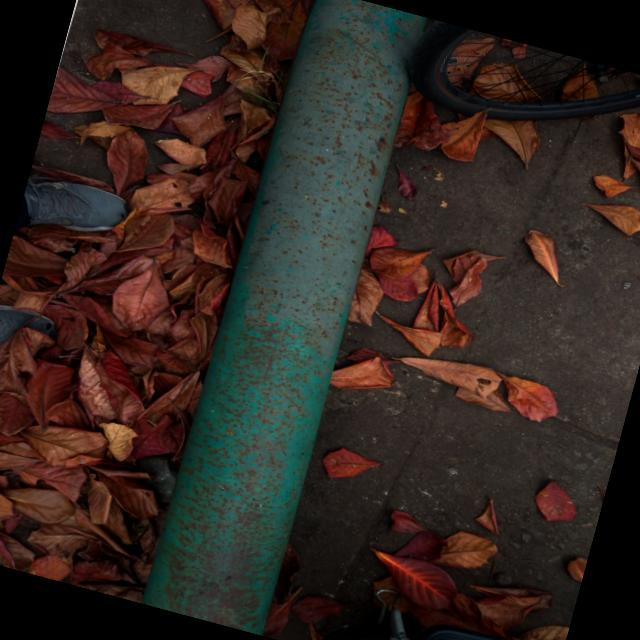gas: (134, 0, 431, 636)
